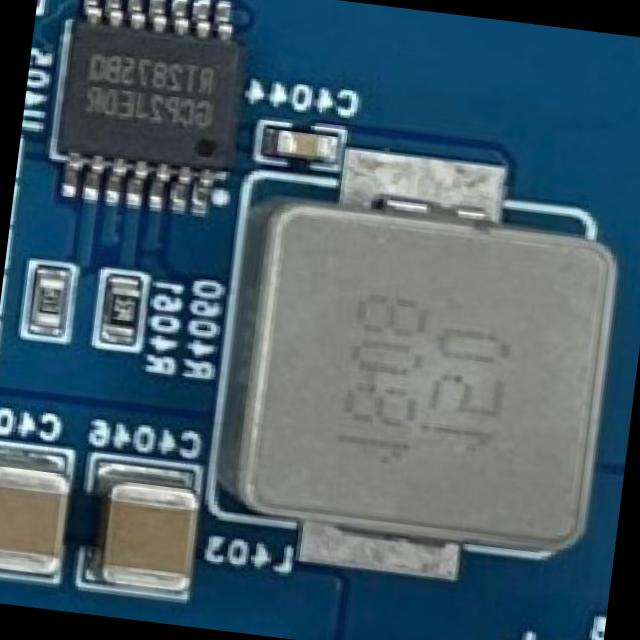IC: (47, 0, 252, 202)
capacitor: (84, 468, 209, 604), (0, 449, 75, 578), (264, 126, 334, 166)
resistor: (27, 269, 77, 338), (101, 281, 141, 339)
